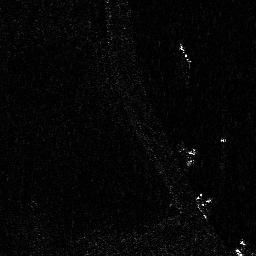ship: (176, 143, 194, 166), (194, 194, 210, 218), (177, 41, 193, 64)
